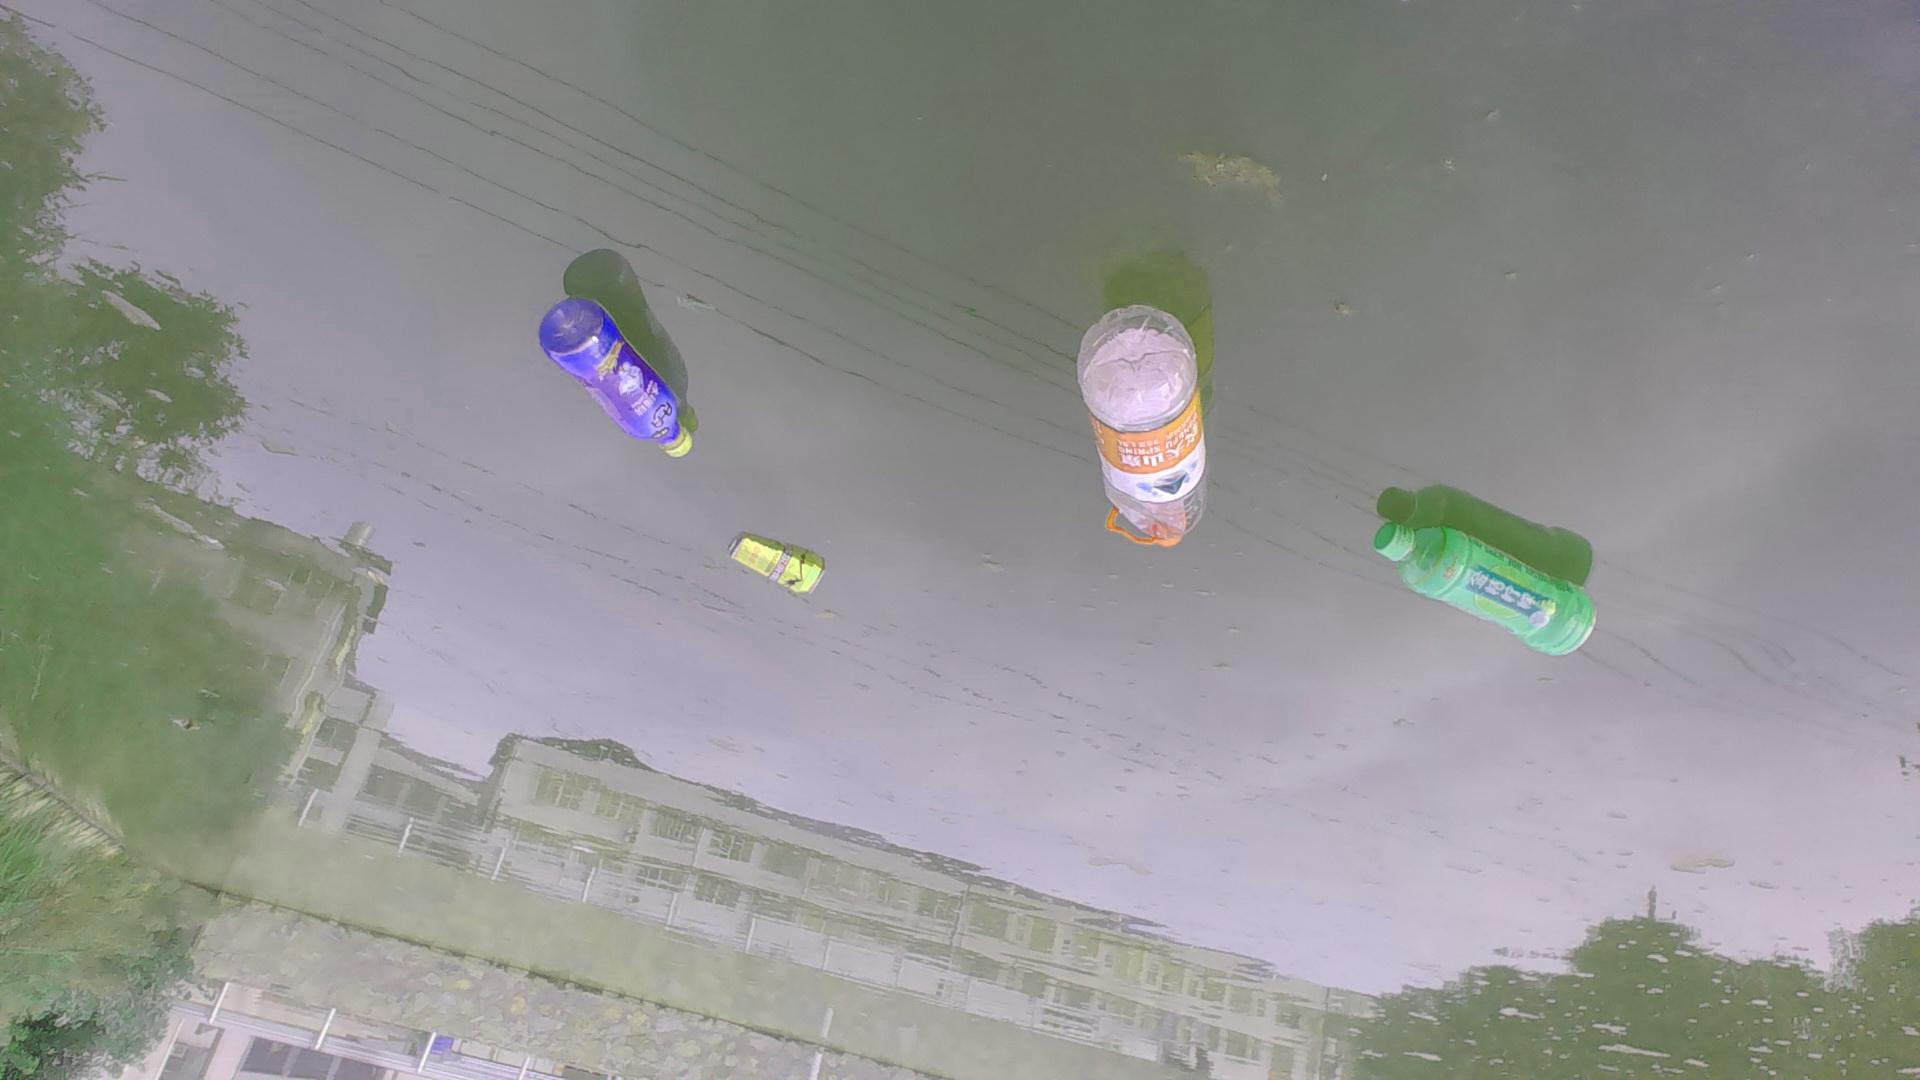Metal: (725, 531, 836, 607)
Plastic: (1073, 294, 1215, 564), (1367, 512, 1606, 661), (535, 297, 702, 468)
